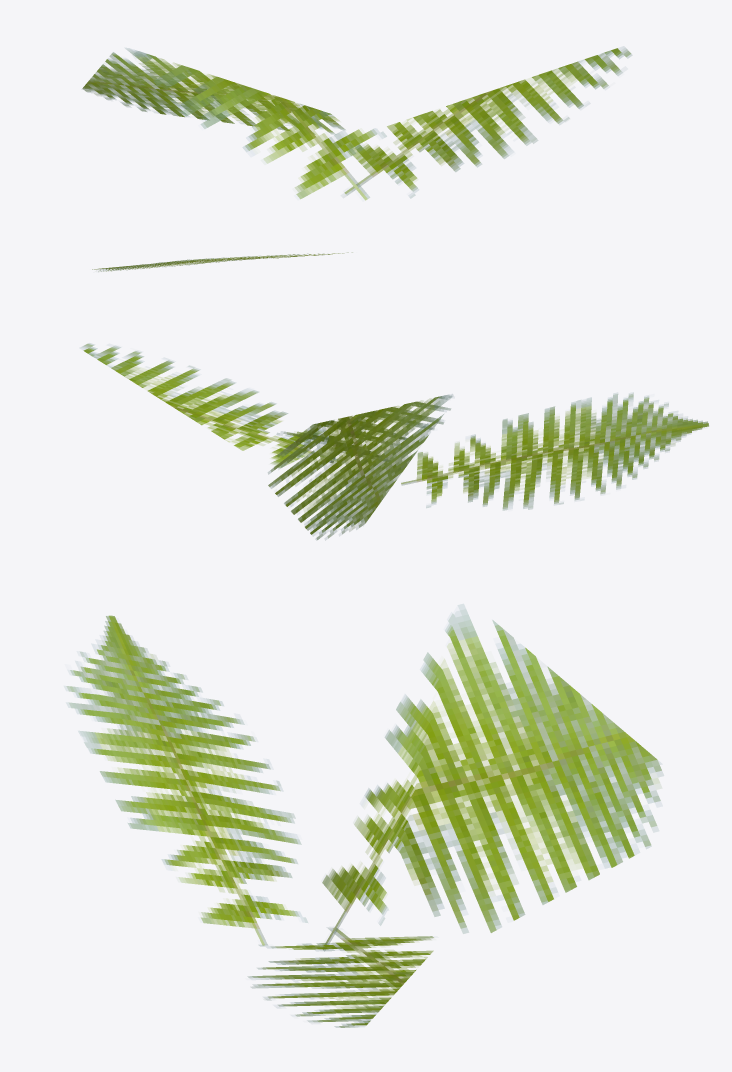
File: fern_02_lod2.glb
3 renders of one model, top to bottom at view 1: azimuth 30°, elevation 25°; view 2: azimuth 150°, elevation 25°; view 3: azimuth 270°, elevation 25°, orthographic. The views are drawn at different scales.
Visible parts, largest first — view 1: ferns 2; view 2: ferns 2; view 3: ferns 2.
Part boxes in pixels (<box>): ferns 2: <box>82,46,631,271</box>; ferns 2: <box>81,343,708,540</box>; ferns 2: <box>64,604,663,1027</box>.
Bounding box in the file's own units: 0.6379 × 0.1701 × 0.3791.
1 material, 1 textured.
